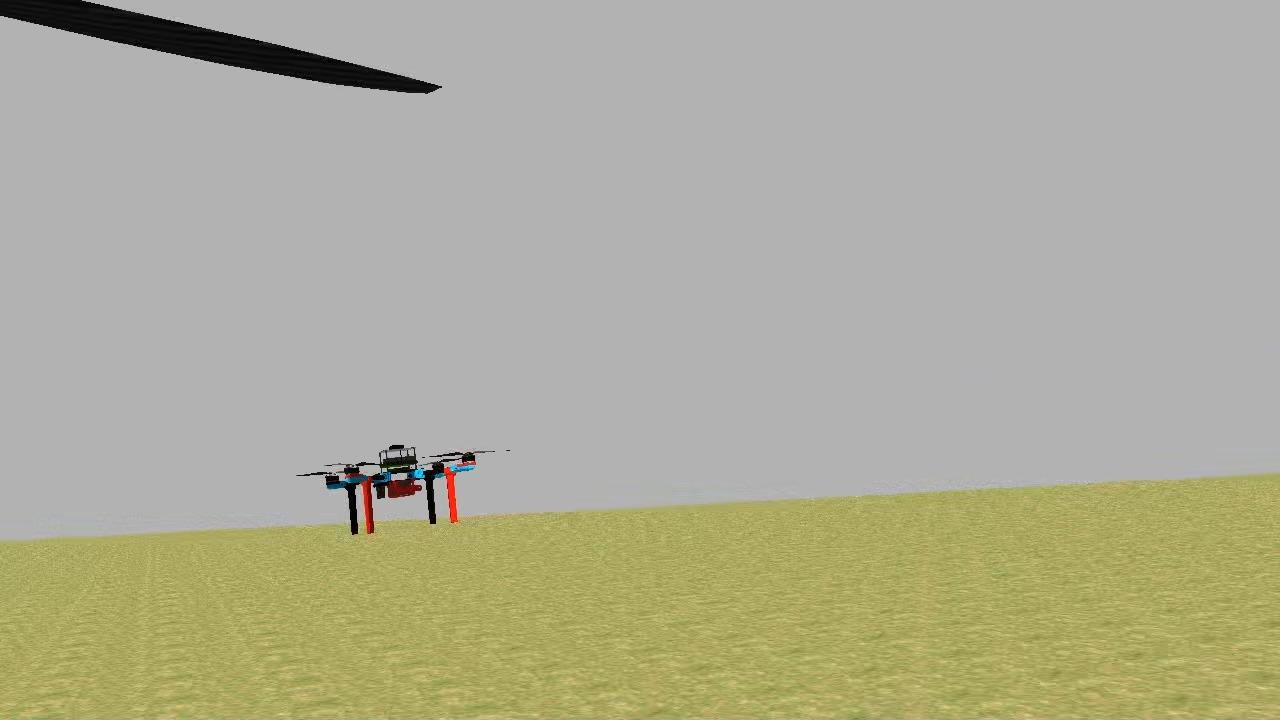UAV: (320, 434, 486, 544)
